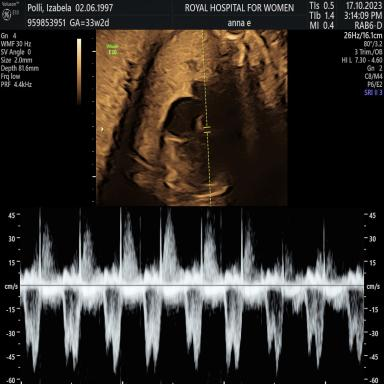Ultrasound-Waves: (25, 207, 363, 384)
